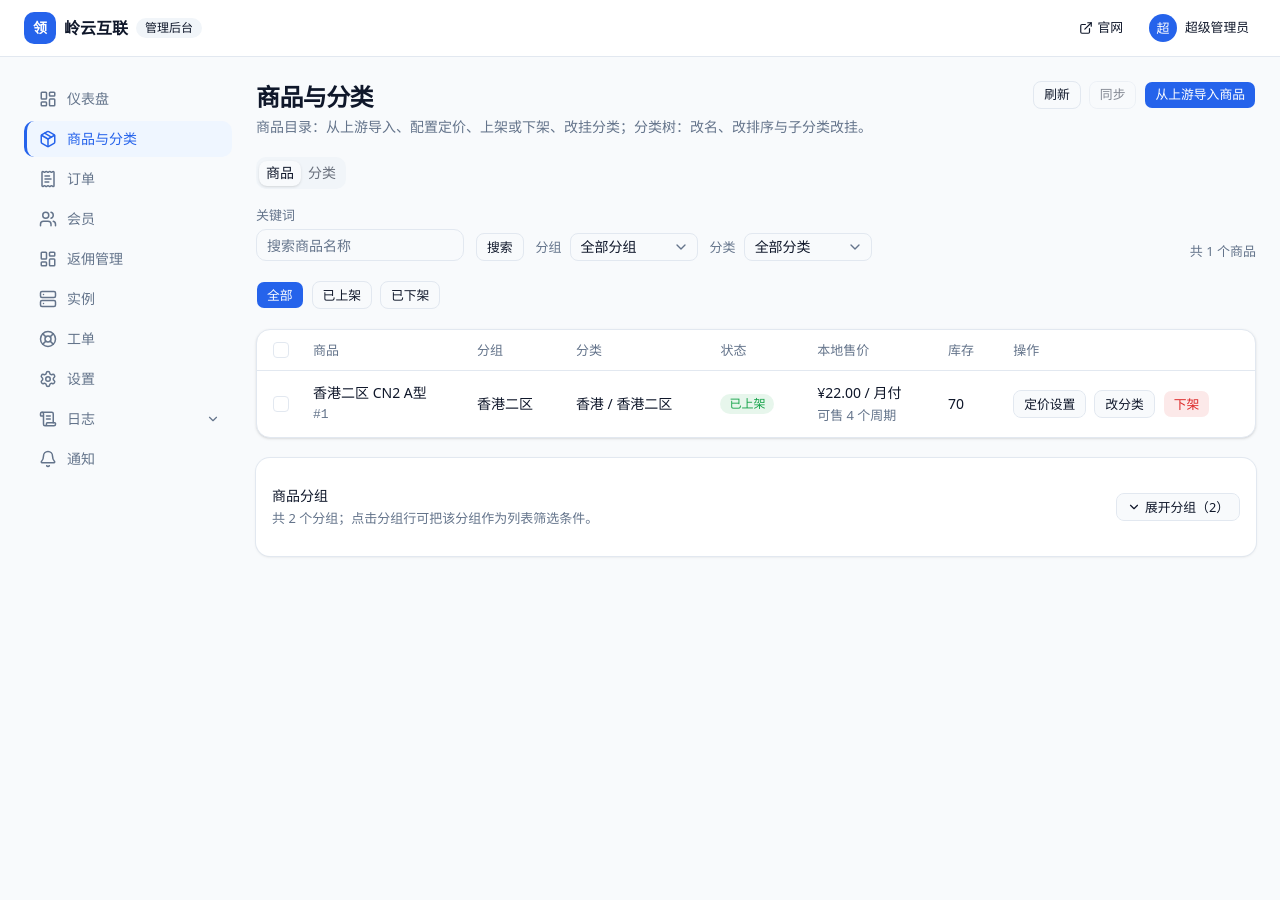
Test case: 管理后台 · 商品管理 › 导入弹窗：部分选择时提交选中的 upstream_group_ids（升序）
Expected: the heading "商品与分类" is shown, top-left (256, 80), bottom-right (373, 113)
Expected: the text "香港二区 CN2 A型" is shown, top-left (313, 383), bottom-right (445, 403)
Click the button "从上游导入商品".
click(1200, 95)  # box top-left (1144, 81), bottom-right (1256, 109)
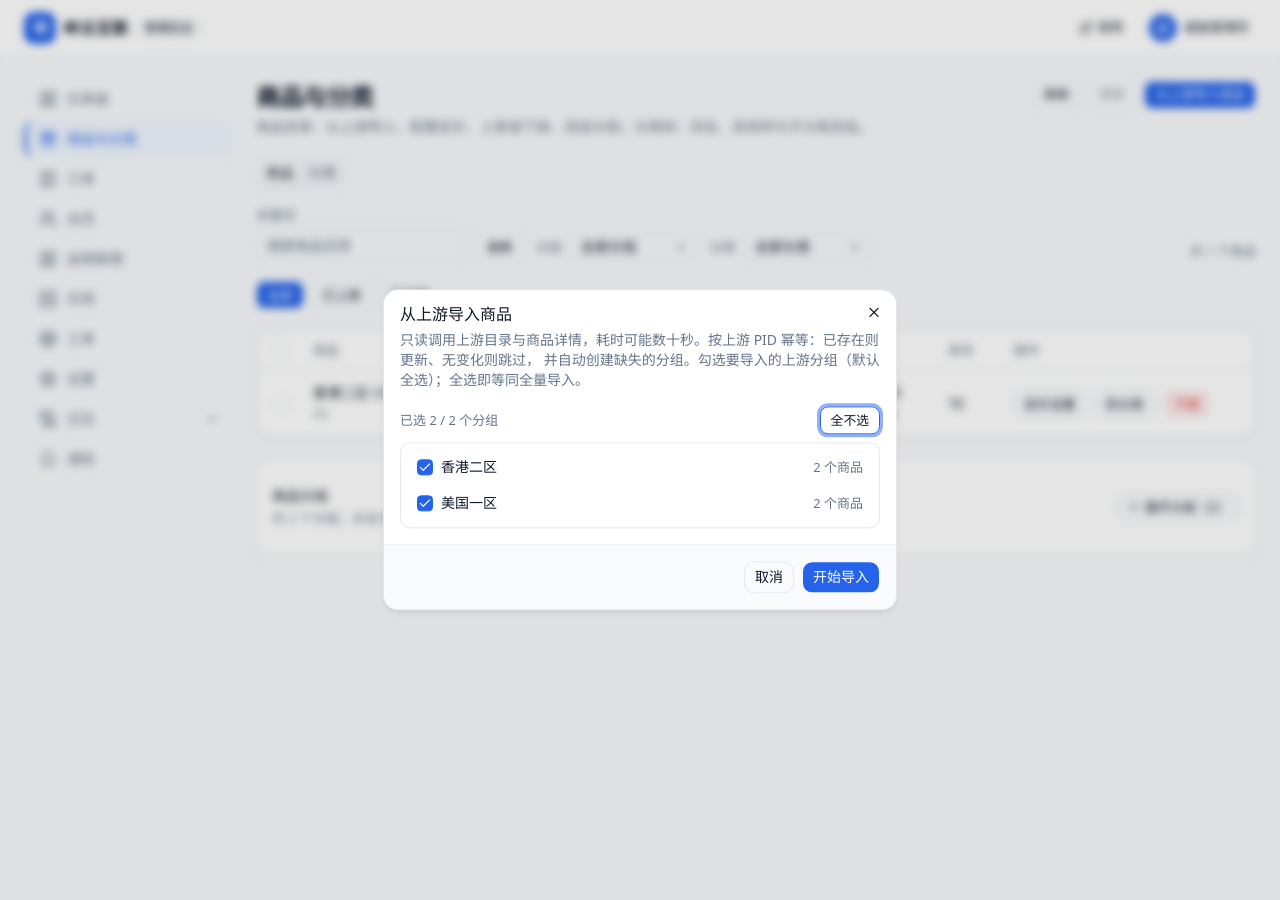
Result: the heading "从上游导入商品" is shown at top-left (400, 303), bottom-right (512, 325)
Click the 1st checkbox named "香港二区".
click(425, 467)  # box top-left (417, 459), bottom-right (433, 475)
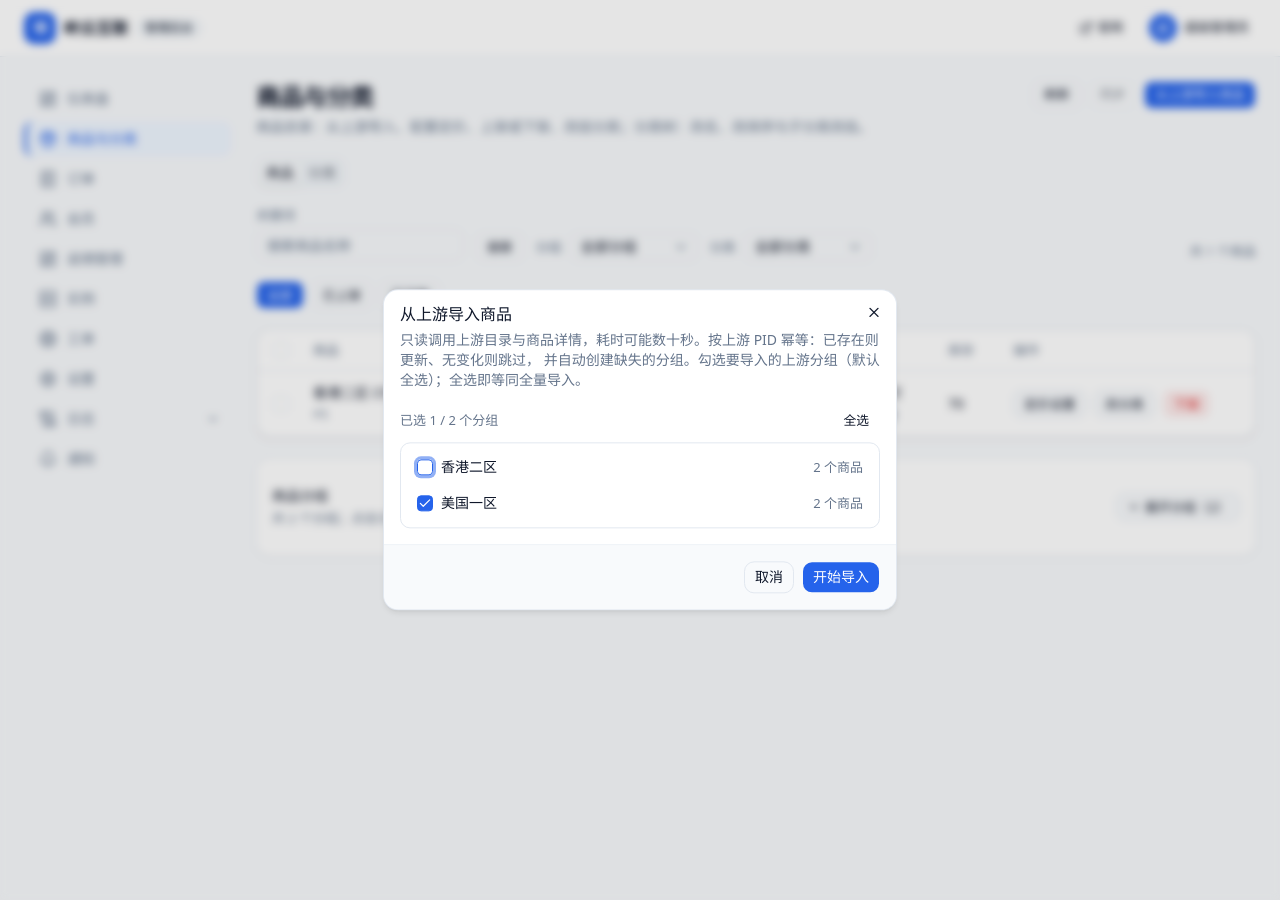
Result: the 1st checkbox named "香港二区" is not checked at top-left (417, 459), bottom-right (433, 475)
Click the button "开始导入".
click(841, 578)  # box top-left (802, 562), bottom-right (880, 594)
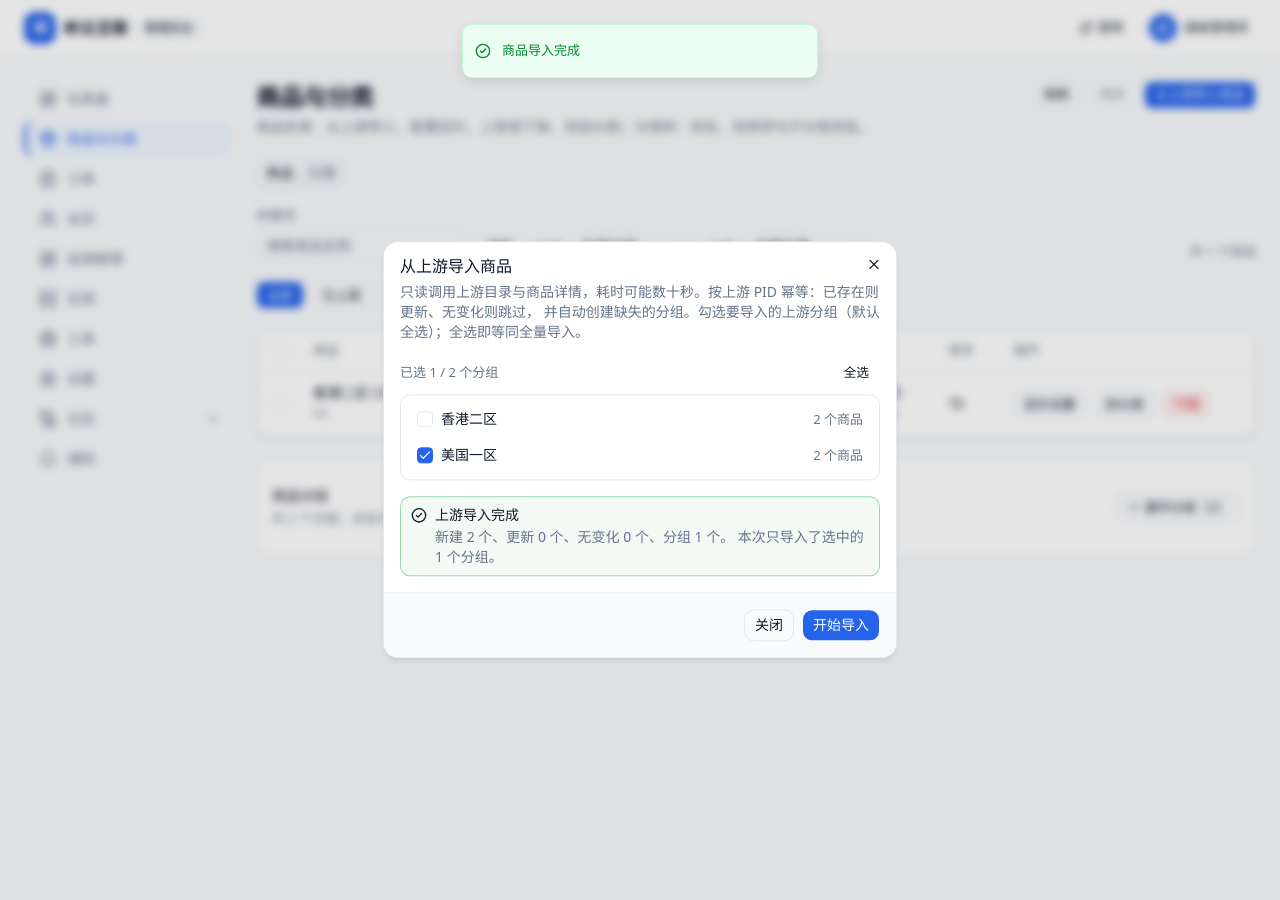
Result: the text "新建 2 个、更新 0 个、无变化 0 个、分组 1 个。 本次只导入了选中的 1 个分组。" is shown at top-left (435, 528), bottom-right (869, 568)
